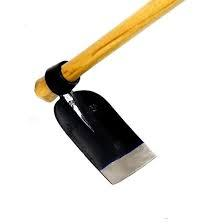HOUE: (9, 0, 183, 199)
